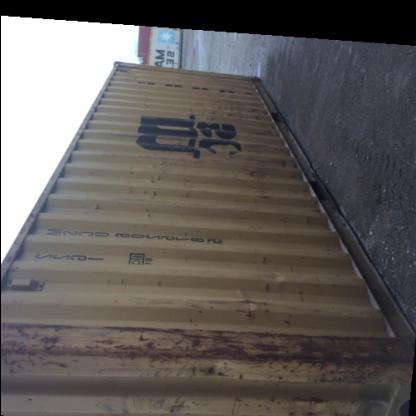Damage: (9, 334, 392, 414), (196, 288, 284, 325), (232, 158, 276, 212), (131, 166, 164, 226), (200, 90, 238, 130), (67, 200, 104, 226), (130, 91, 158, 122), (250, 247, 284, 271), (246, 98, 264, 138), (100, 273, 132, 290), (148, 280, 167, 292)
